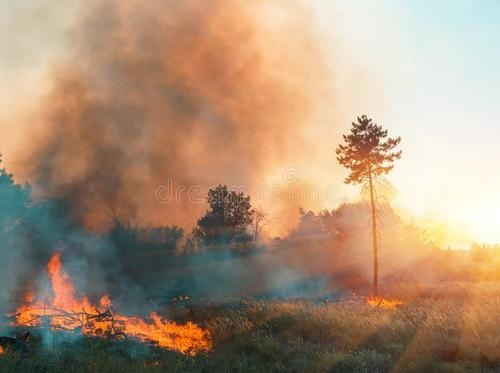fire: (6, 252, 216, 358), (363, 292, 406, 308)
